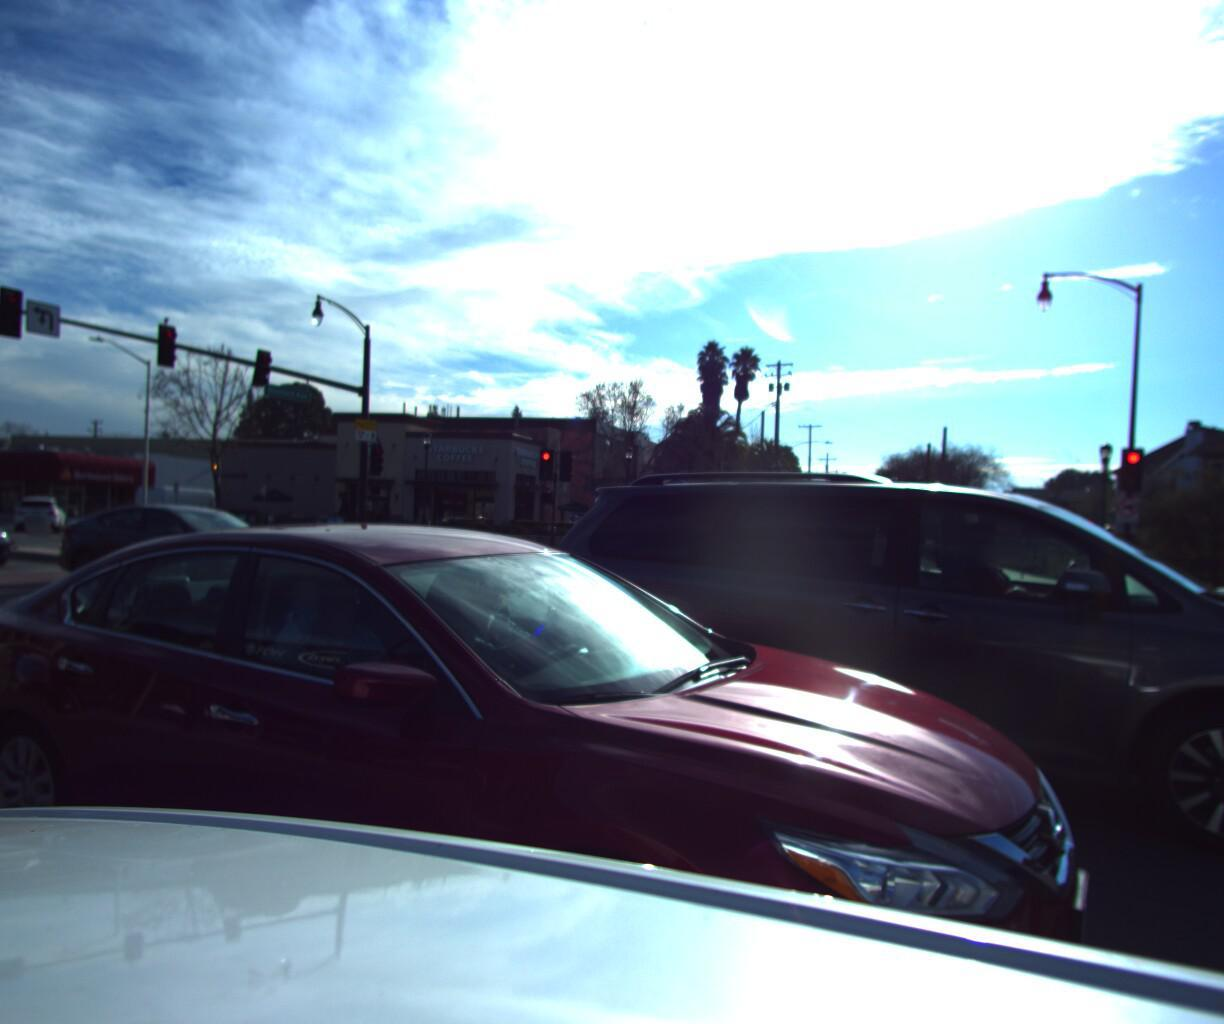car: (0, 492, 1100, 1024), (524, 456, 1224, 944), (30, 486, 327, 601), (127, 480, 231, 529), (9, 494, 72, 530), (0, 489, 25, 573), (0, 464, 3, 609)
